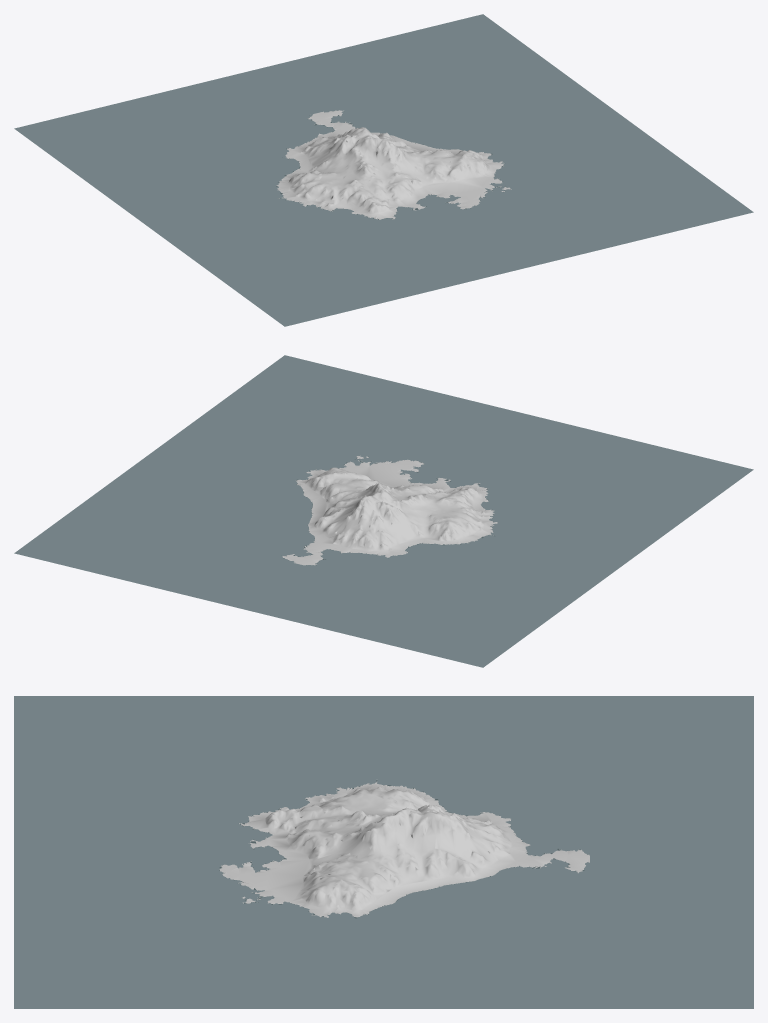
3 renders of one model, top to bottom at view 1: azimuth 30°, elevation 25°; view 2: azimuth 150°, elevation 25°; view 3: azimuth 270°, elevation 25°, orthographic. The views are drawn at different scales.
Parts seen in each view (by area): view 1: island (×2); view 2: island (×2); view 3: island (×2).
Boxes of the visible parts, x1,y1,x2,y2 form: island (×2): [14, 14, 753, 326]; island (×2): [14, 355, 753, 667]; island (×2): [14, 696, 753, 1008].
Bounding box in the file's own units: 2 × 0.1207 × 2.
